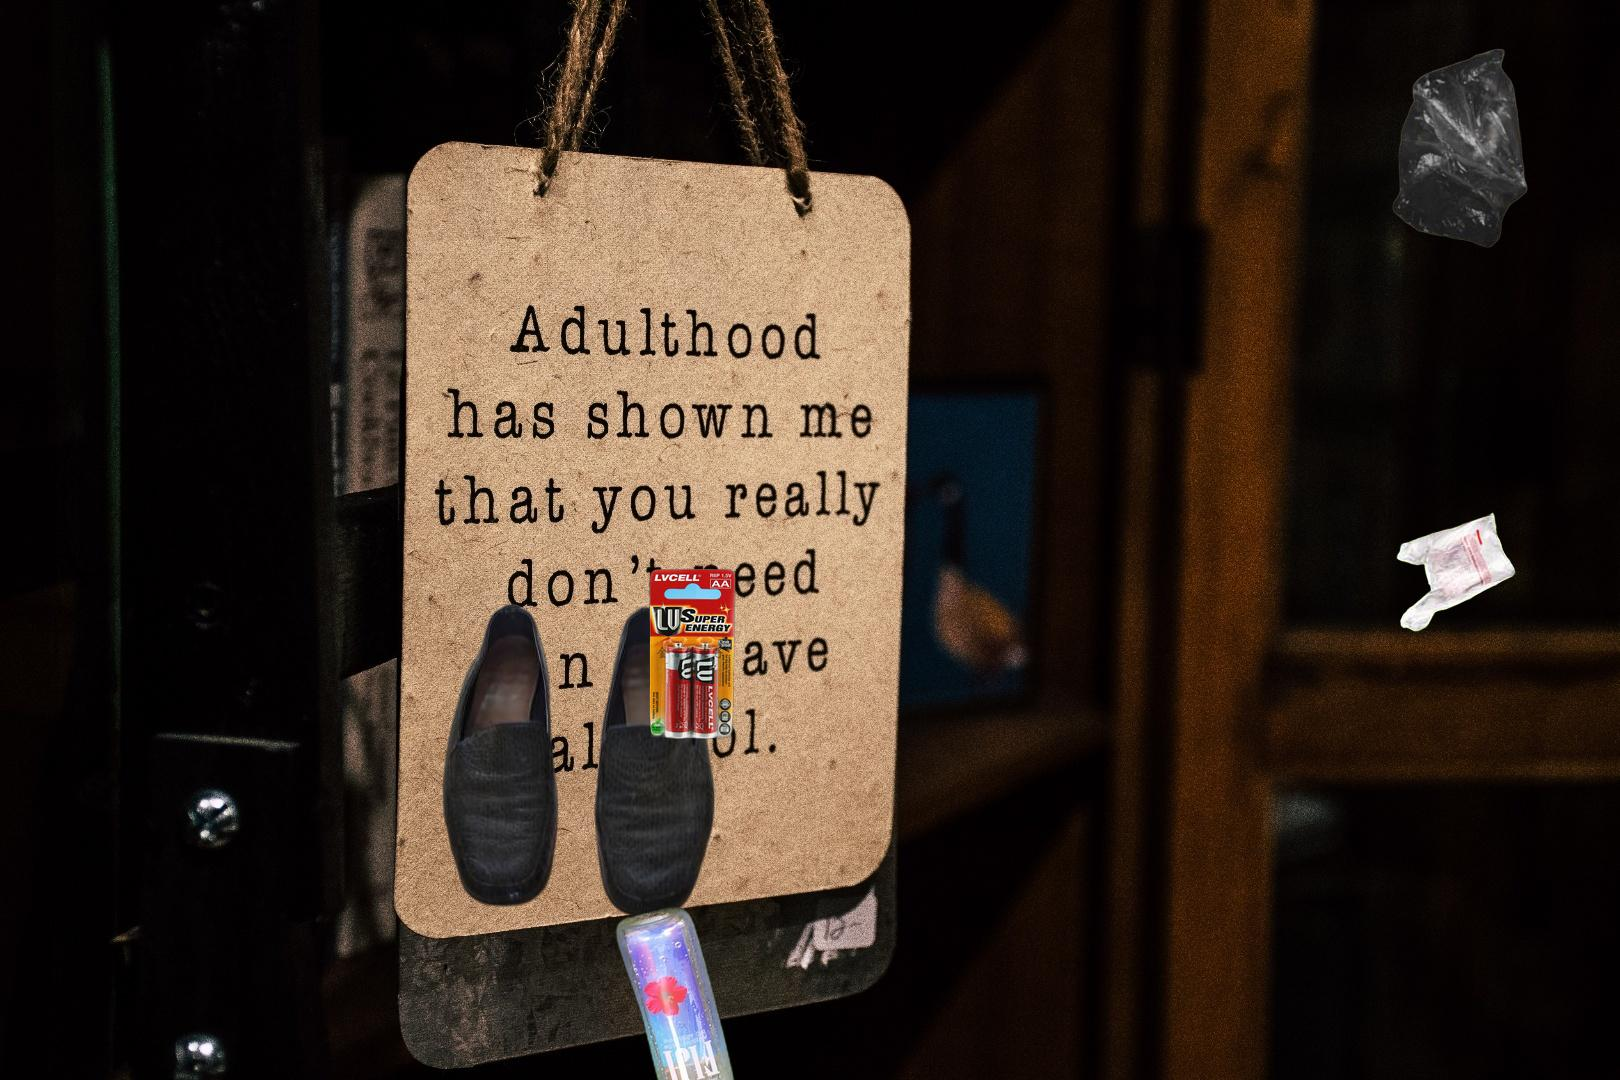battery: (647, 567, 738, 742)
plastic-bag: (1389, 48, 1530, 251), (1393, 510, 1519, 634)
plastic-bottles: (611, 900, 740, 1080)
shoes: (439, 599, 718, 922)
